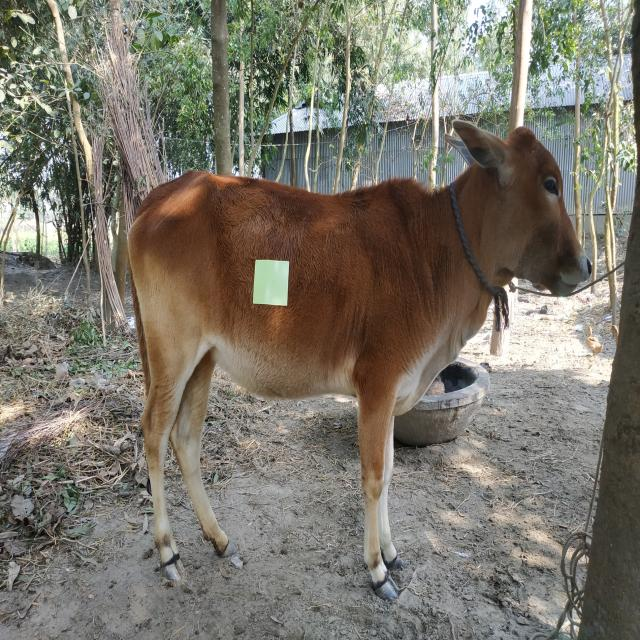badan_sapi: (156, 186, 406, 403)
sapi: (111, 104, 594, 606)
